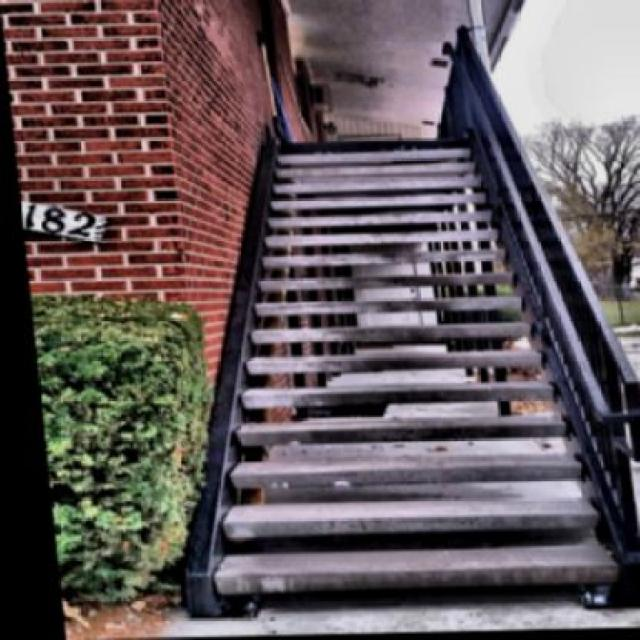stair: (130, 68, 638, 628)
